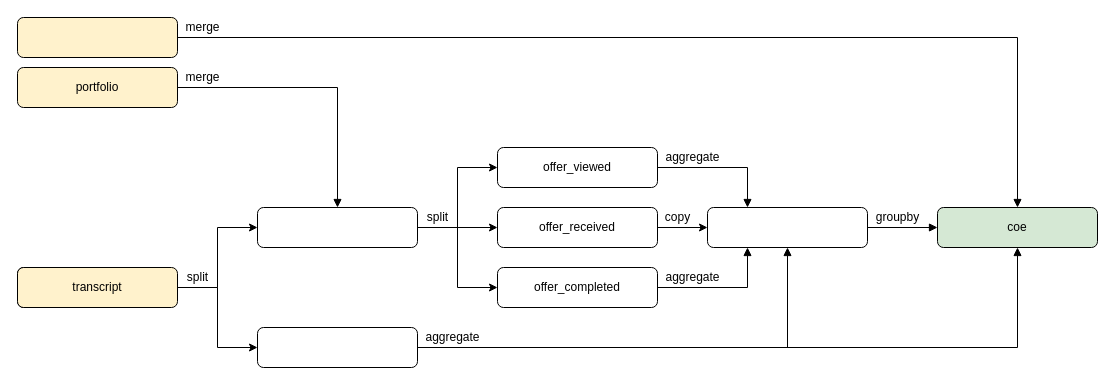
This 1115x385 diagram has some shape labels left out. Each missing label, with the centre of its shape:
"aux_df" goes at point 787,227.
"profile" goes at point 97,37.
"transcript_offer" goes at point 337,227.
"transcript_transaction" goes at point 337,347.
